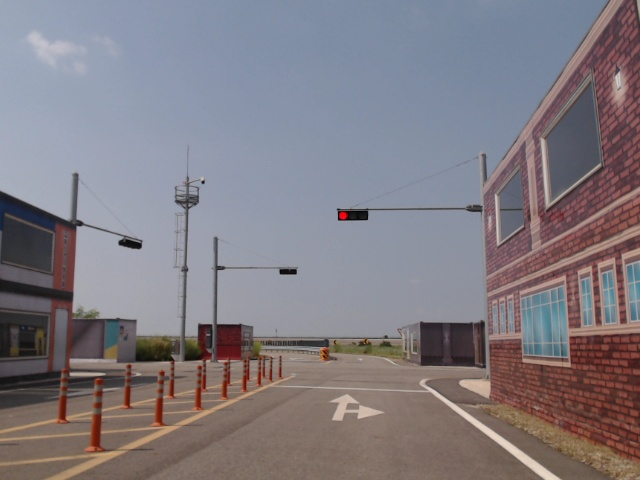red_3: (337, 210, 369, 221)
